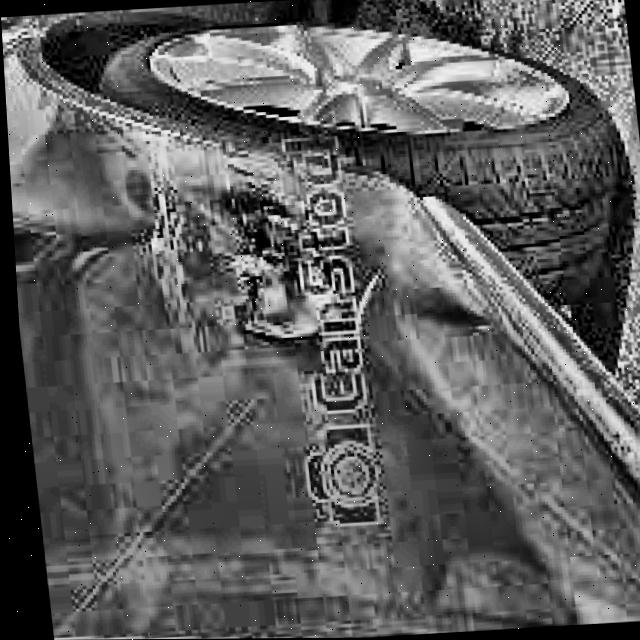door_dent: (265, 214, 497, 452)
door_scratch: (117, 141, 217, 290)
